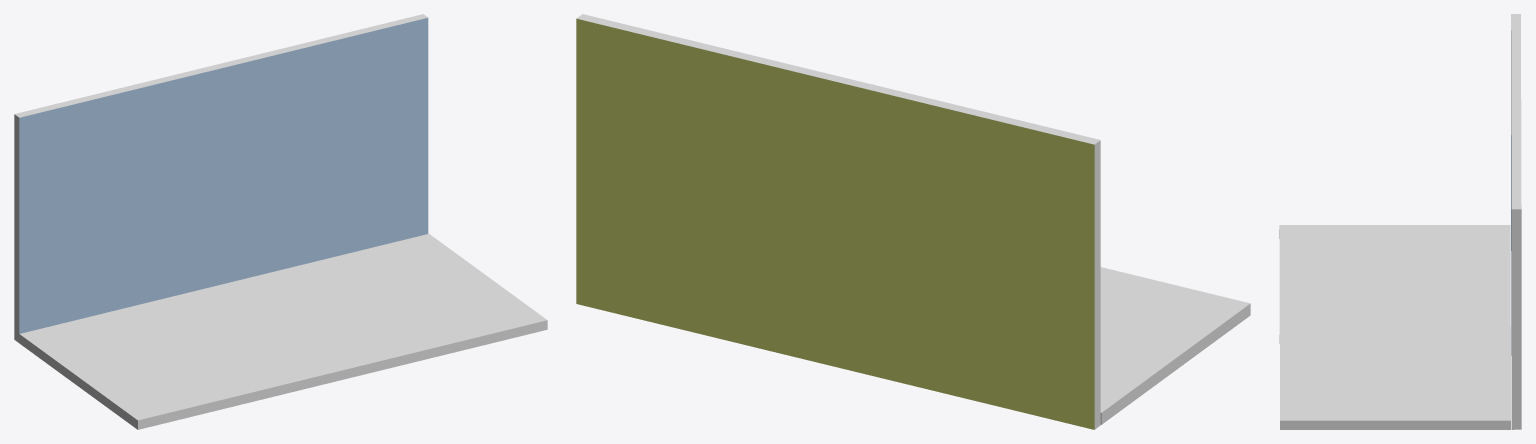
File: ASSET-TEMPLATE-1-STAND.fbx
3 renders of one model, left to right at view 1: azimuth 30°, elevation 25°; view 2: azimuth 150°, elevation 25°; view 3: azimuth 270°, elevation 25°, orthographic. The views are drawn at different scales.
Visible parts, largest first — view 1: Cube; view 2: Cube; view 3: Cube.
Part boxes in pixels (x1,y1,x2,y2): Cube: [14, 14, 547, 429]; Cube: [576, 14, 1250, 429]; Cube: [1279, 14, 1521, 429].
Bounding box in the file's own units: 490 × 257 × 256.
